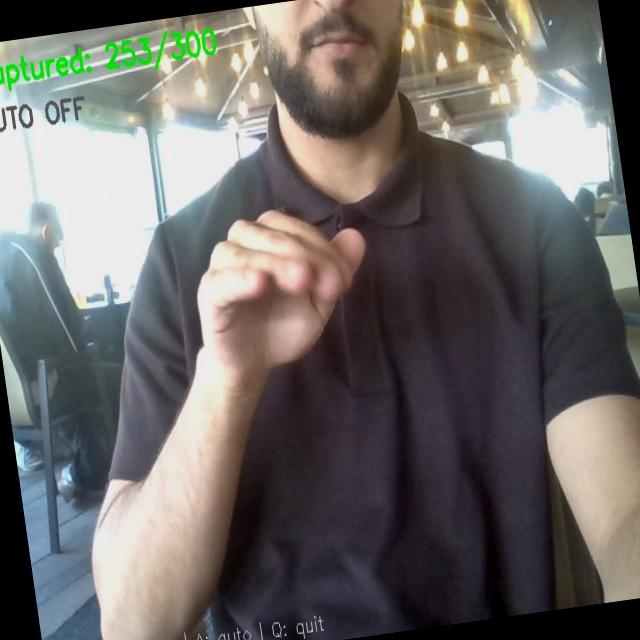Hand: (197, 211, 364, 391)
